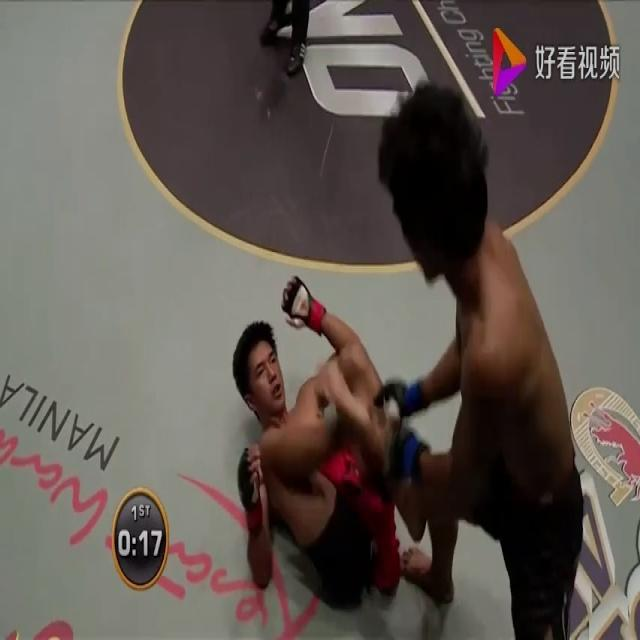fight: (210, 49, 631, 639)
